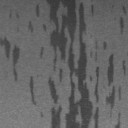red iron: (35, 0, 126, 128), (0, 36, 19, 80), (120, 6, 126, 35), (30, 76, 36, 104), (8, 10, 20, 18), (28, 21, 34, 32), (40, 46, 44, 58)
